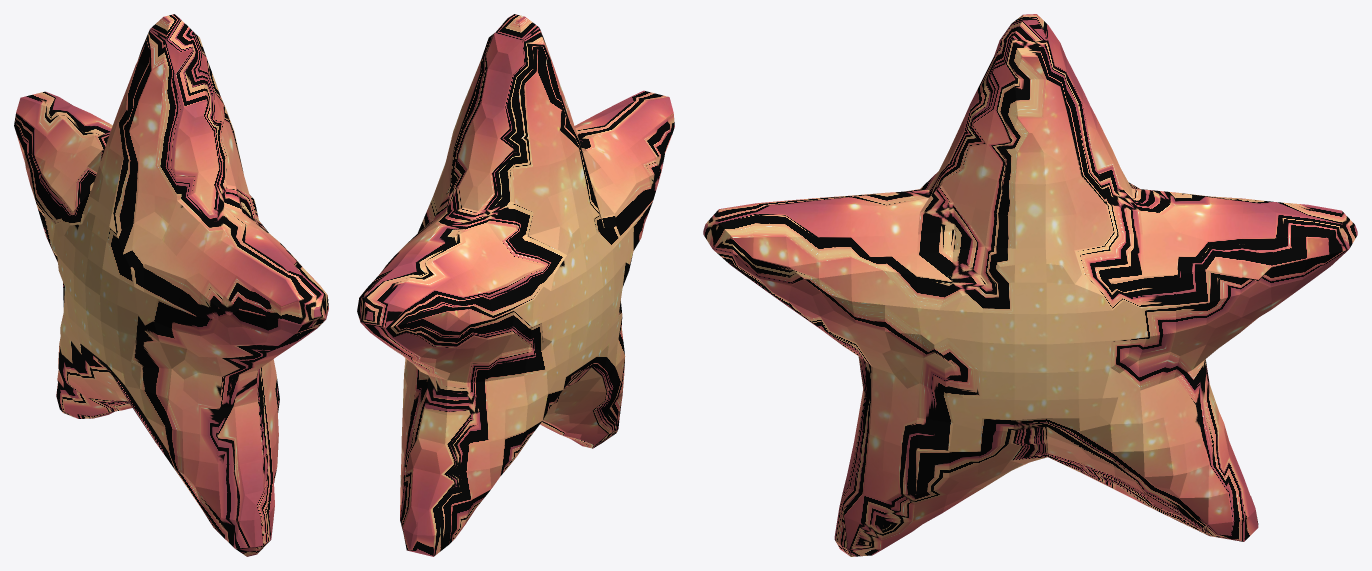
The model's file is super_coin.glb.
3 renders of one model, left to right at view 1: azimuth 30°, elevation 25°; view 2: azimuth 150°, elevation 25°; view 3: azimuth 270°, elevation 25°, orthographic. The views are drawn at different scales.
Parts seen in each view (by area): view 1: tripo_node_cd252f20-2e56-4690-be65-34299fdae03e; view 2: tripo_node_cd252f20-2e56-4690-be65-34299fdae03e; view 3: tripo_node_cd252f20-2e56-4690-be65-34299fdae03e.
Boxes of the visible parts, x1,y1,x2,y2 form: tripo_node_cd252f20-2e56-4690-be65-34299fdae03e: [14, 14, 328, 556]; tripo_node_cd252f20-2e56-4690-be65-34299fdae03e: [357, 14, 674, 556]; tripo_node_cd252f20-2e56-4690-be65-34299fdae03e: [703, 14, 1357, 556].
Size of the model in its own units: 0.3136 by 0.9038 by 0.9973.
1 material, 1 textured.
